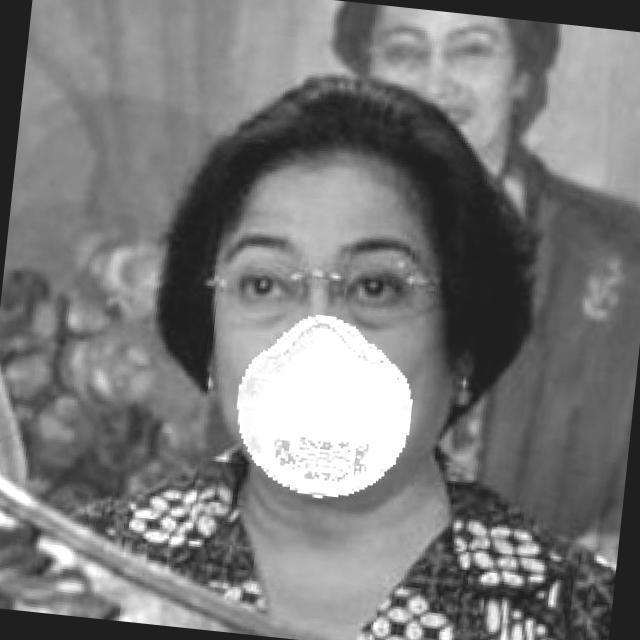no_gloves: (206, 50, 547, 242)
